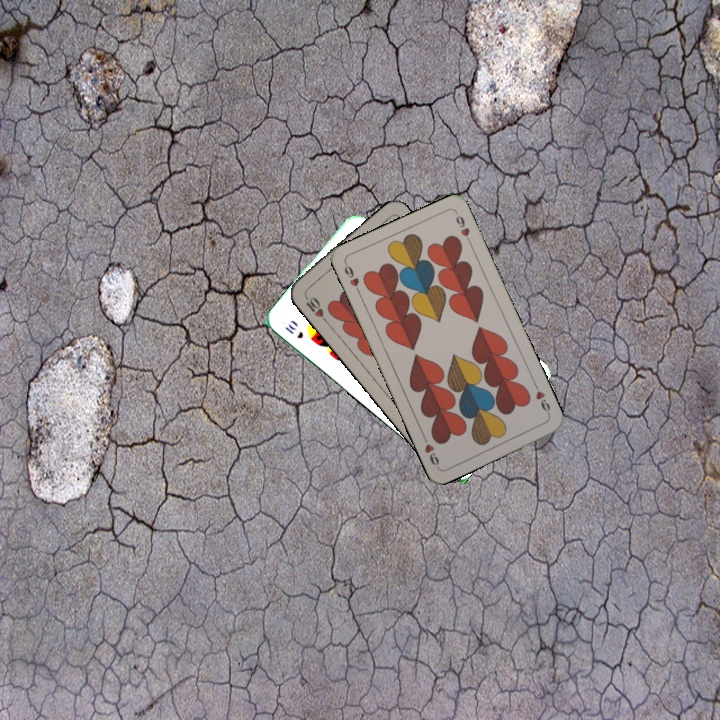H10: (300, 290, 329, 325)
H9: (340, 259, 363, 297), (530, 380, 553, 418)
S10: (281, 320, 306, 341)
